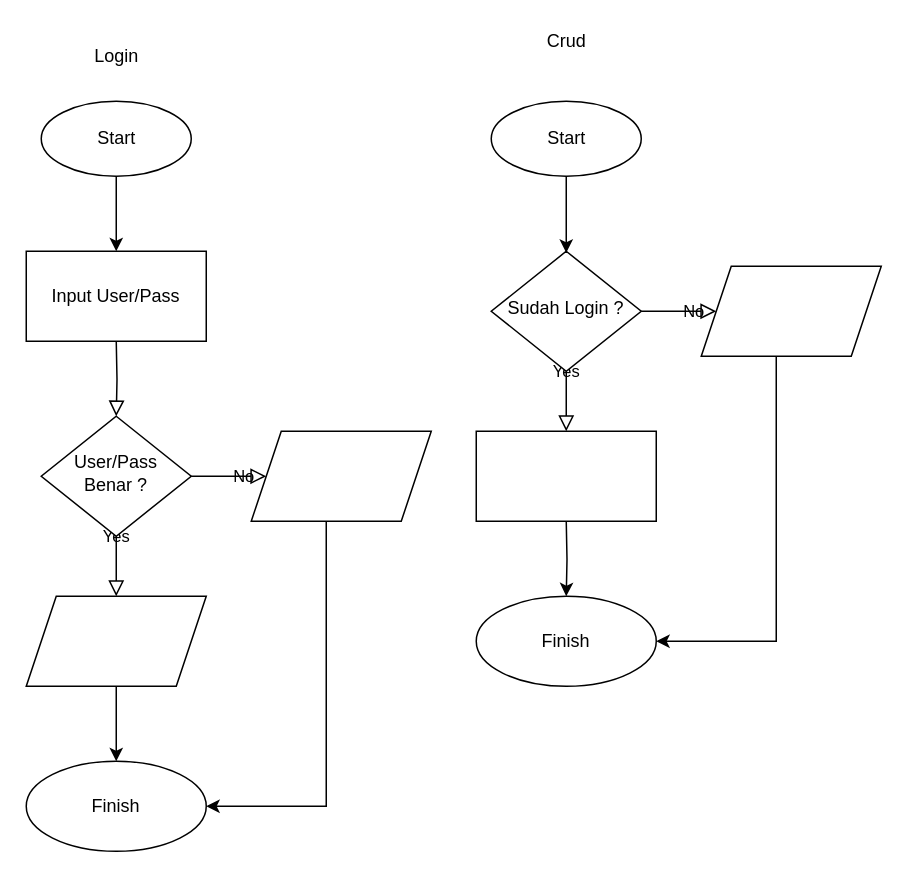
Some shapes in this 908 by 878 pixel diagram are drawn without their labels. Here are the shapes that lost their labels. From the top down, the centre of each, then its label:
At point (790, 310): "Output: Harus Login!".
At point (340, 475): "Output: User/Pass Salah".
At point (565, 475): "CRUD Data".
At point (115, 640): "Output: Token".
